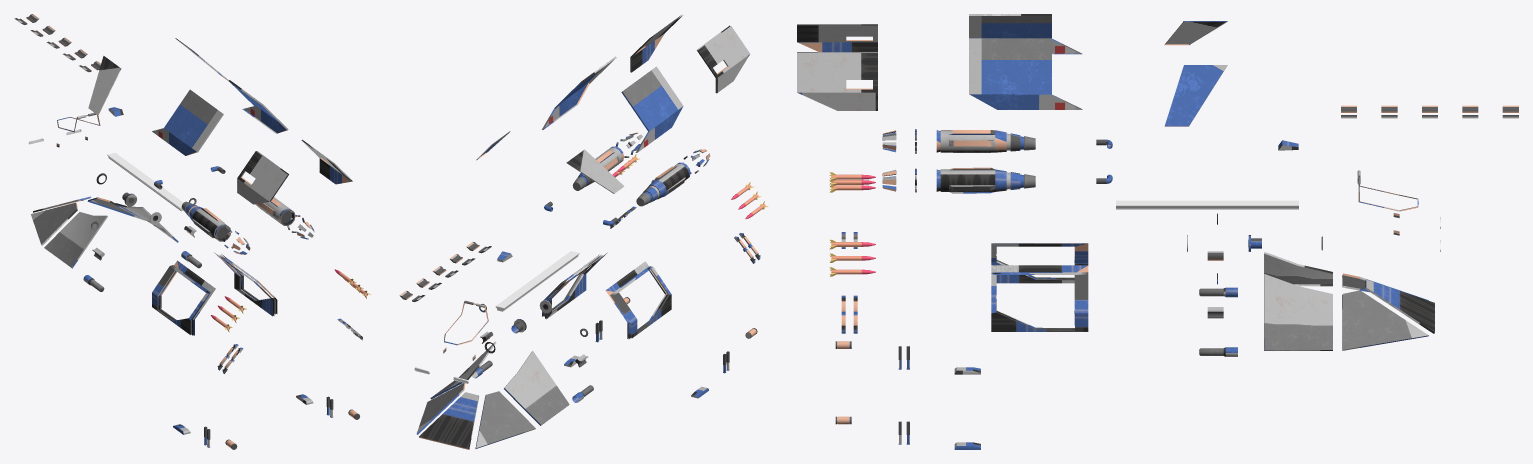
File: HAAD.fbx
3 renders of one model, left to right at view 1: azimuth 30°, elevation 25°; view 2: azimuth 150°, elevation 25°; view 3: azimuth 270°, elevation 25°, orthographic. The views are drawn at different scales.
Visible parts, largest first — view 1: Armor_Body, TroopPod_Armor, TroopPod_DoorFrame, TroopPod_Doors, Thruster_Body, Wings_Panel, TroopPod_ConnectorTop, Theet, Missiles, MissilesConnector; view 2: Armor_Body, TroopPod_Armor, TroopPod_DoorFrame, TroopPod_Doors, Thruster_Body, Wings_Panel, TroopPod_ConnectorTop, Theet, Missiles, MissilesConnector; view 3: Armor_Body, TroopPod_Armor, TroopPod_Doors, Thruster_Body, TroopPod_DoorFrame, Wings_Panel, TroopPod_ConnectorTop, Missiles, Theet, SideSupport.
Part boxes in pixels (left/top/right/bottom): Armor_Body: left=31, top=196, right=178, bottom=268; TroopPod_Armor: left=152, top=80, right=288, bottom=155; TroopPod_DoorFrame: left=152, top=252, right=277, bottom=335; TroopPod_Doors: left=237, top=139, right=352, bottom=204; Thruster_Body: left=181, top=197, right=295, bottom=241; Wings_Panel: left=88, top=38, right=228, bottom=115; TroopPod_ConnectorTop: left=107, top=152, right=183, bottom=211; Theet: left=14, top=14, right=100, bottom=72; Missiles: left=210, top=269, right=370, bottom=332; MissilesConnector: left=217, top=318, right=362, bottom=373; Armor_Body: left=416, top=341, right=569, bottom=449; TroopPod_Armor: left=542, top=56, right=683, bottom=152; TroopPod_DoorFrame: left=542, top=252, right=671, bottom=339; TroopPod_Doors: left=630, top=15, right=749, bottom=93; Thruster_Body: left=572, top=146, right=690, bottom=206; Wings_Panel: left=476, top=131, right=624, bottom=193; TroopPod_ConnectorTop: left=495, top=251, right=579, bottom=311; Theet: left=399, top=242, right=491, bottom=301; Missiles: left=612, top=154, right=768, bottom=218; MissilesConnector: left=610, top=206, right=760, bottom=263; Armor_Body: left=1264, top=252, right=1434, bottom=350; TroopPod_Armor: left=969, top=14, right=1082, bottom=109; TroopPod_Doors: left=797, top=24, right=877, bottom=110; Thruster_Body: left=936, top=130, right=1035, bottom=193; TroopPod_DoorFrame: left=991, top=243, right=1088, bottom=331; Wings_Panel: left=1164, top=21, right=1227, bottom=126; TroopPod_ConnectorTop: left=1116, top=200, right=1298, bottom=209; Missiles: left=829, top=172, right=875, bottom=276; Theet: left=1341, top=105, right=1518, bottom=118; SideSupport: left=1199, top=287, right=1237, bottom=356.
Bounding box in the file's own units: 1038 × 2096 × 3570.
